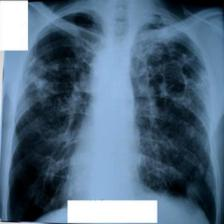tuberculosis: (5, 9, 219, 224)
